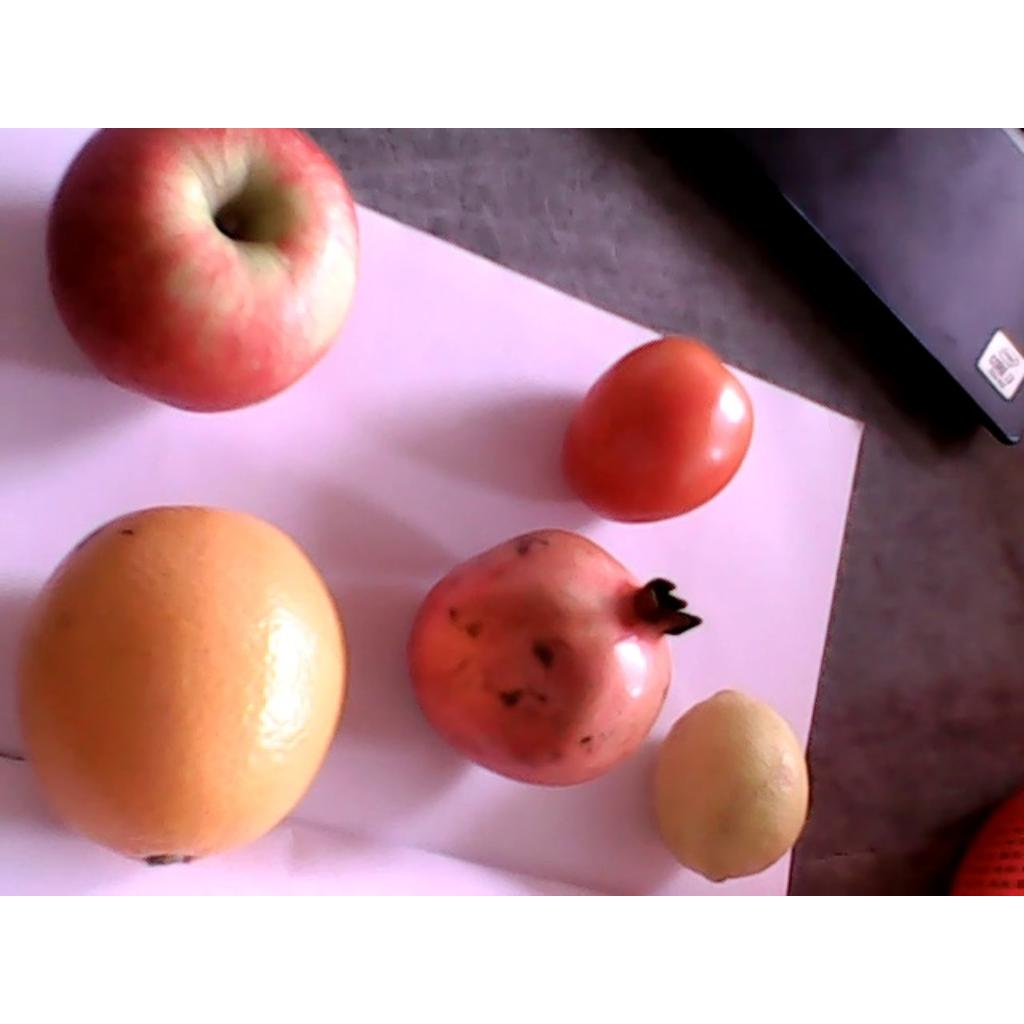apple: (48, 128, 361, 412)
lemon: (652, 690, 811, 882)
orange: (12, 504, 349, 868)
pomegranate: (407, 528, 702, 786)
tomato: (564, 336, 753, 526)
